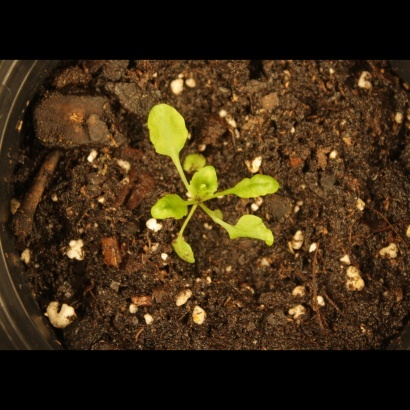leaf: (137, 95, 194, 163), (222, 213, 283, 262), (226, 171, 286, 202), (164, 233, 204, 275), (146, 190, 196, 223), (183, 164, 223, 203), (183, 151, 206, 174)
